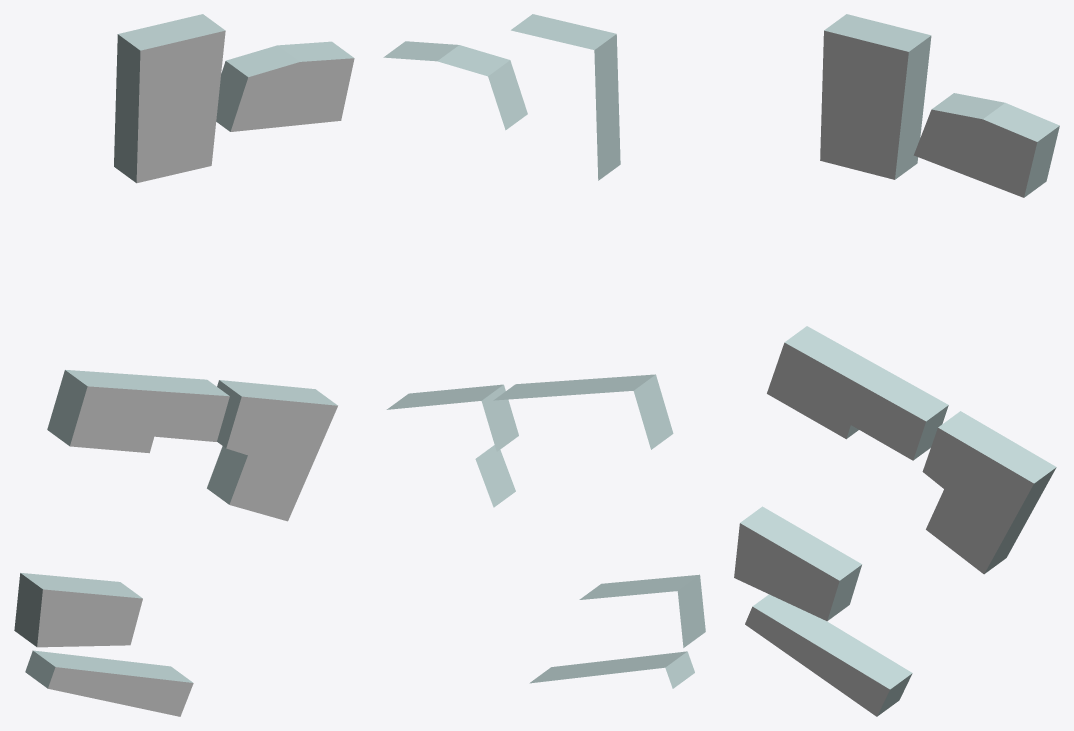
3 views of the same model, side by side, from view 1: azimuth 30°, elevation 25°; view 2: azimuth 150°, elevation 25°; view 3: azimuth 330°, elevation 25° (orthographic).
Parts seen in each view (by area): view 1: 0_1_0_1_0_1_1_2_2; view 2: 0_1_0_1_0_1_1_2_2; view 3: 0_1_0_1_0_1_1_2_2.
Part boxes in pixels (<box>): 0_1_0_1_0_1_1_2_2: <box>14,14,354,716</box>; 0_1_0_1_0_1_1_2_2: <box>383,14,705,688</box>; 0_1_0_1_0_1_1_2_2: <box>734,14,1059,716</box>.
Bounding box in the file's own units: 23.74 × 49.79 × 3.87.
